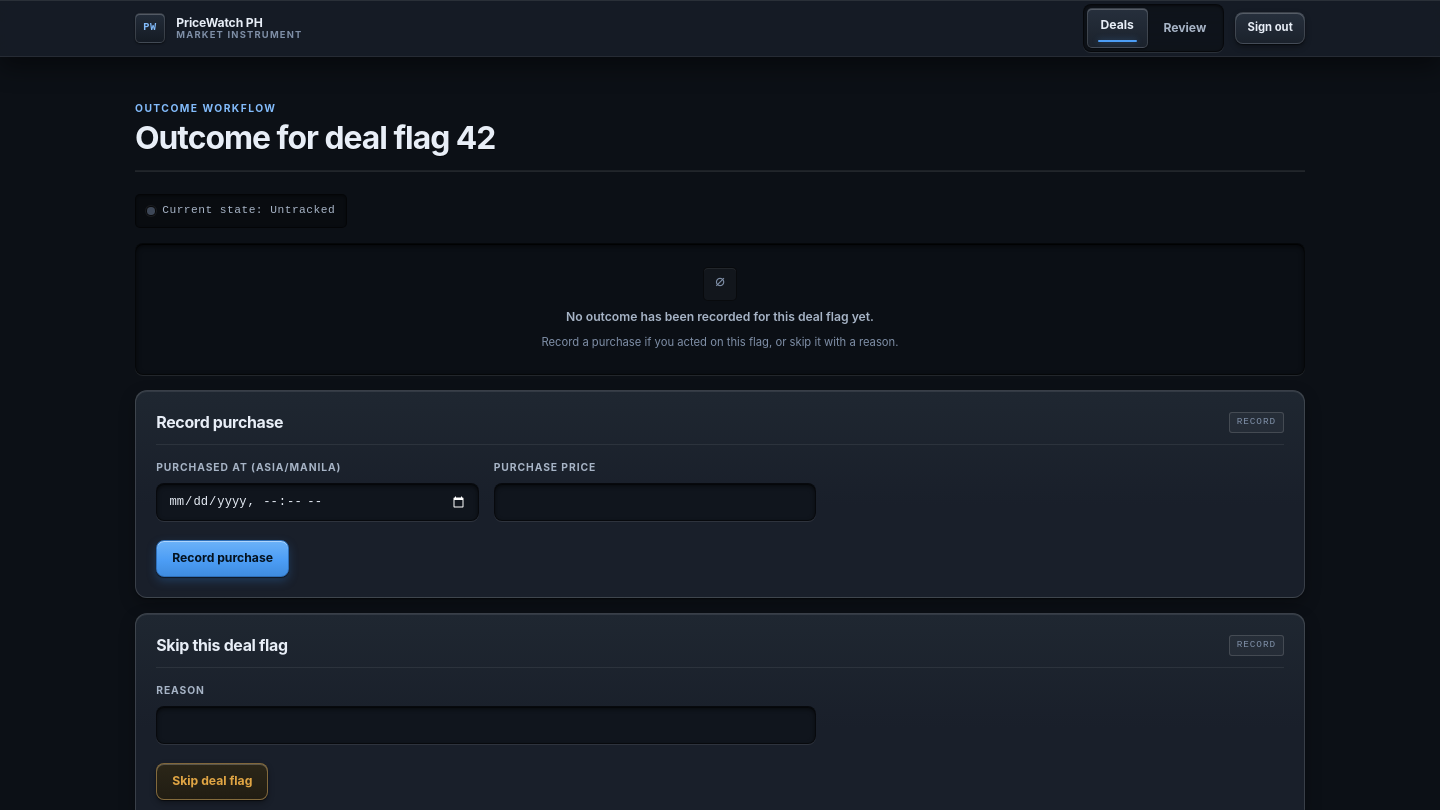
Test: TASK_029 lifecycle transitions › records a purchase from untracked with an explicit-offset Manila-local timestamp and string price
Type "2026-06-15T12:00" into the field labelled "Purchased at (Asia/Manila)". click: [318, 502]
box: [156,483,479,521]
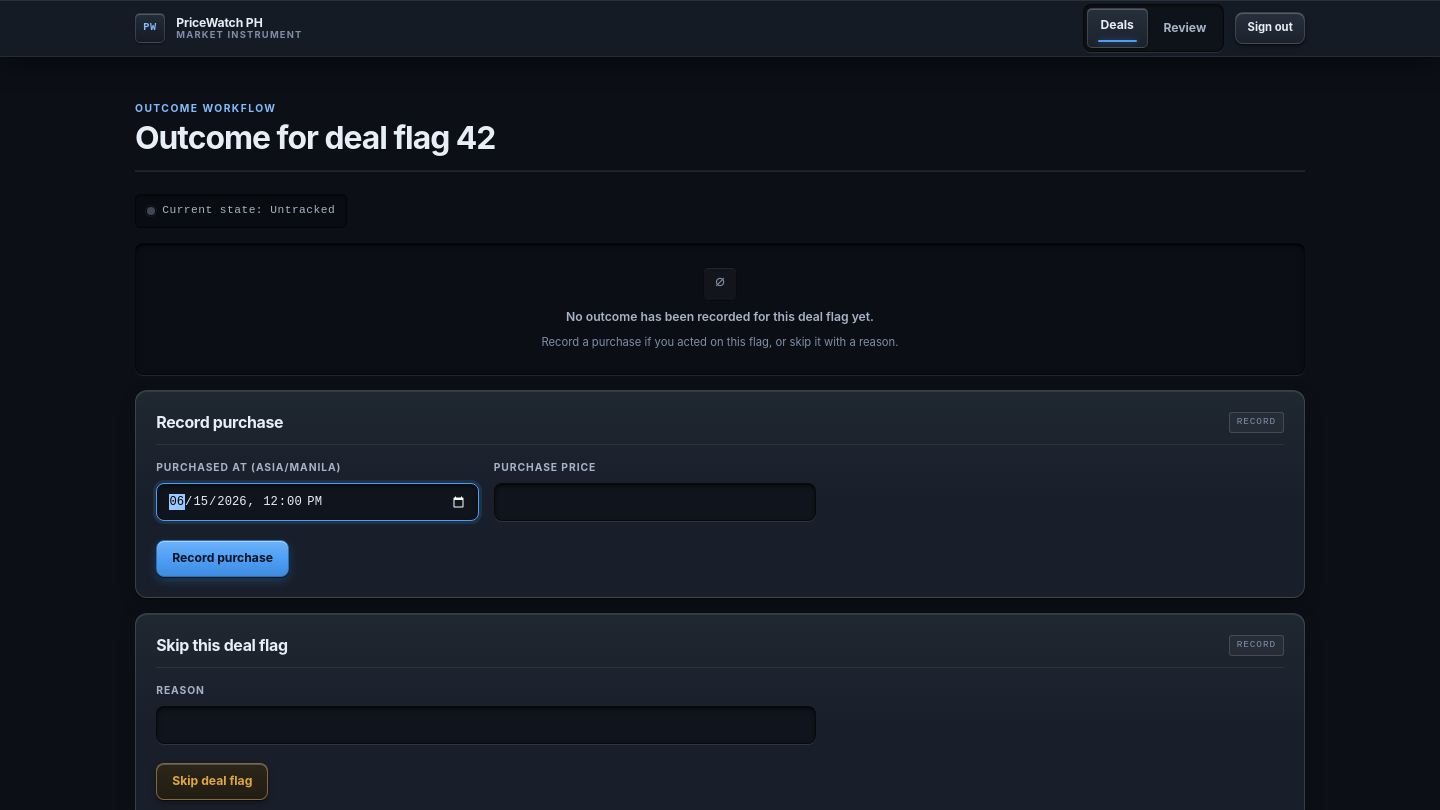
Type "12500.00" into the field labelled "Purchase price". click: [655, 502]
box: [494,483,816,521]
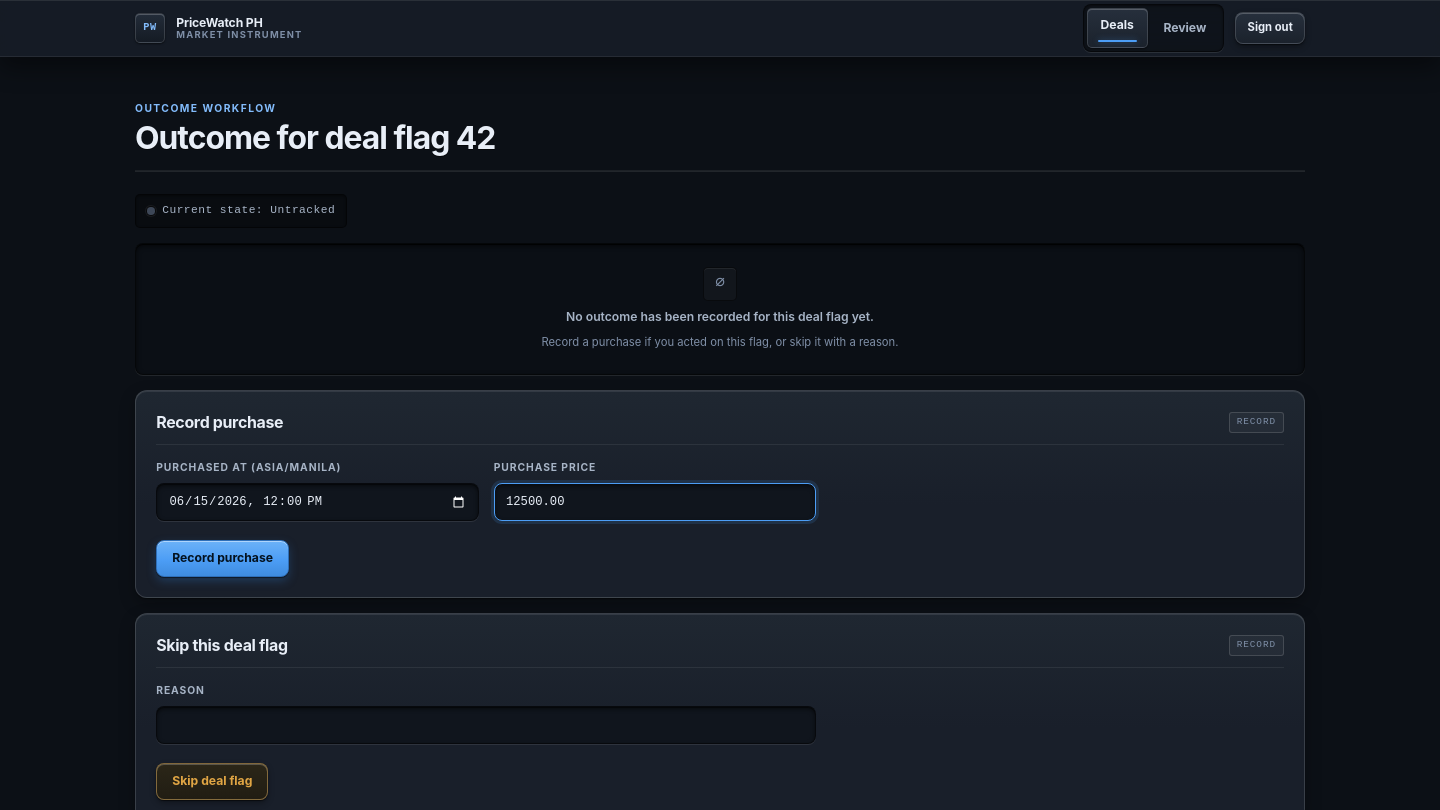
Click the button "Record purchase". click: [223, 558]
box: [156,540,289,577]
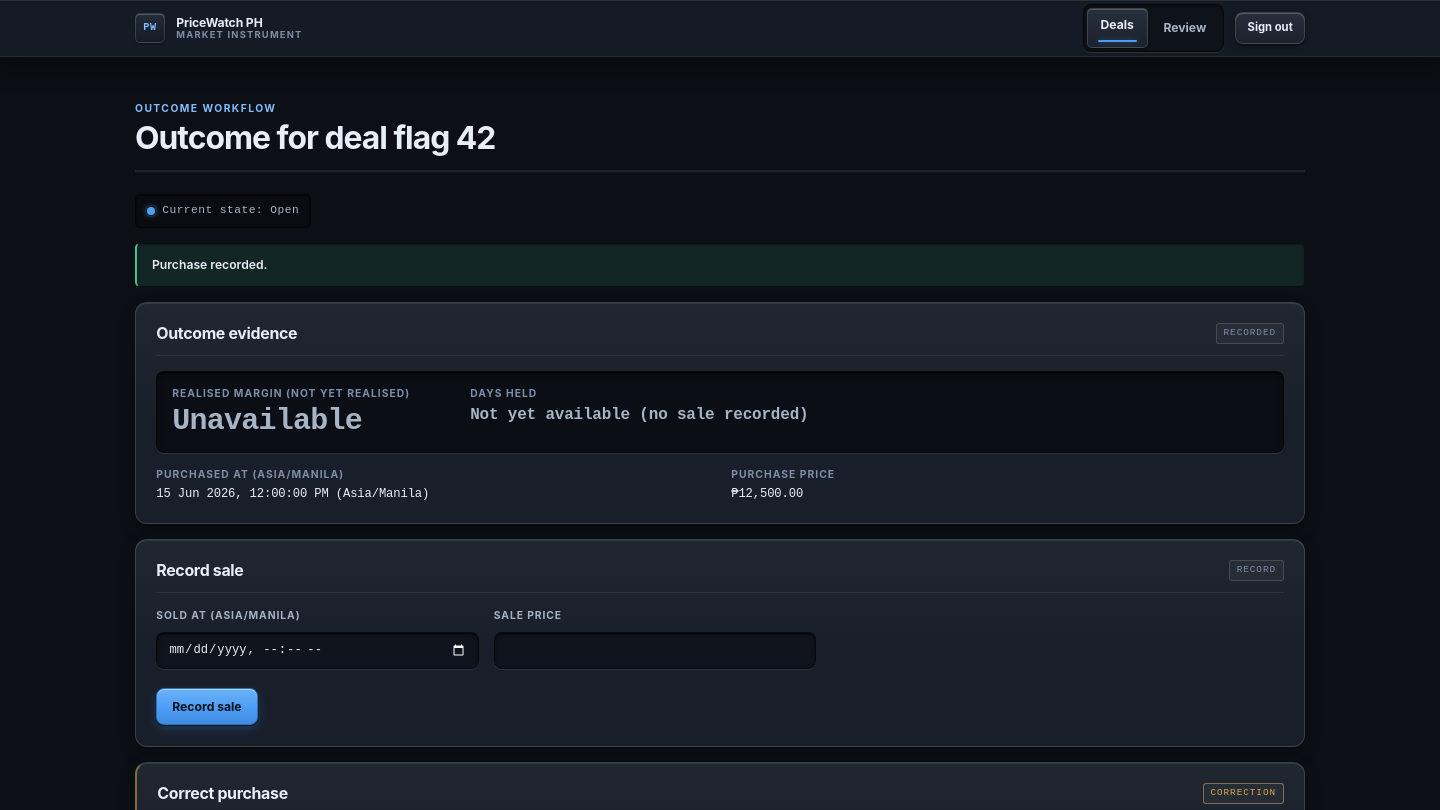
Now the text "Purchase recorded." is shown, box [135,243,1305,287]
Now the text "Current state: Open" is shown, box [135,194,311,228]
